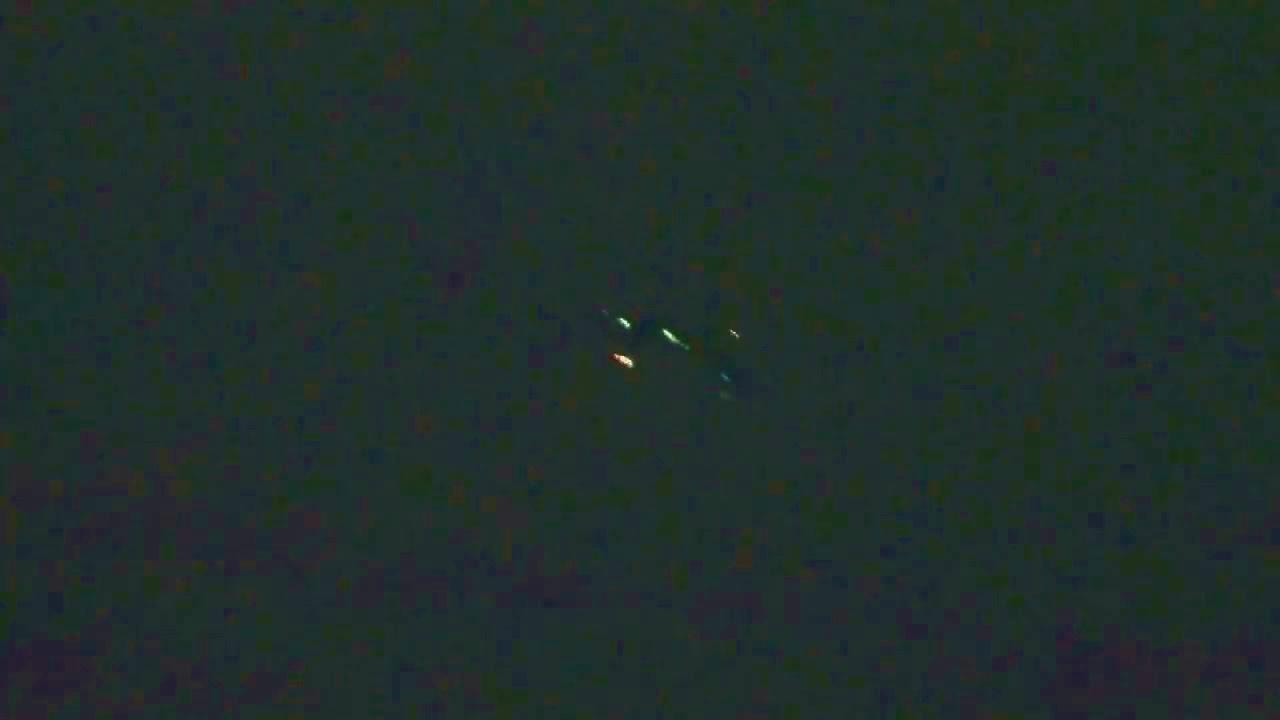Plane: (573, 289, 798, 418)
